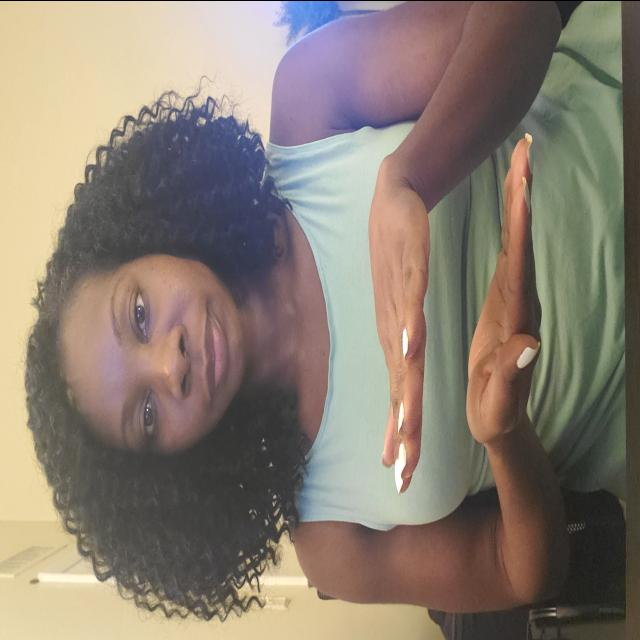Paper: (362, 151, 441, 506)
